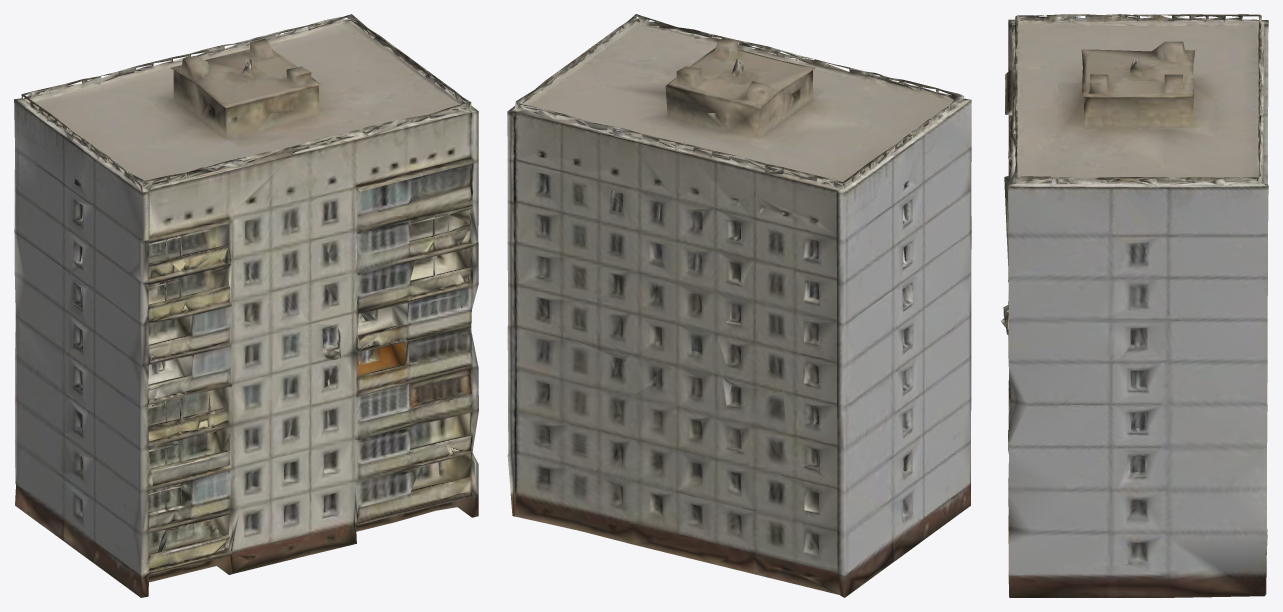
Rendered from upload-bf86.glb.
The picture shows the model from 3 angles, left to right: view 1: azimuth 30°, elevation 25°; view 2: azimuth 150°, elevation 25°; view 3: azimuth 270°, elevation 25°; orthographic projection.
Visible parts, largest first — view 1: tripo_node_bf86d584-49de-4696-8dff-eeb6e7afe4e7; view 2: tripo_node_bf86d584-49de-4696-8dff-eeb6e7afe4e7; view 3: tripo_node_bf86d584-49de-4696-8dff-eeb6e7afe4e7.
Part boxes in pixels (box(x1,y1,x2,y2)): tripo_node_bf86d584-49de-4696-8dff-eeb6e7afe4e7: box(14, 14, 478, 597); tripo_node_bf86d584-49de-4696-8dff-eeb6e7afe4e7: box(507, 14, 971, 597); tripo_node_bf86d584-49de-4696-8dff-eeb6e7afe4e7: box(1000, 14, 1268, 597).
Size of the model in its own units: 0.749 by 0.9533 by 0.5067.
Materials: 1 (1 with a texture image).
